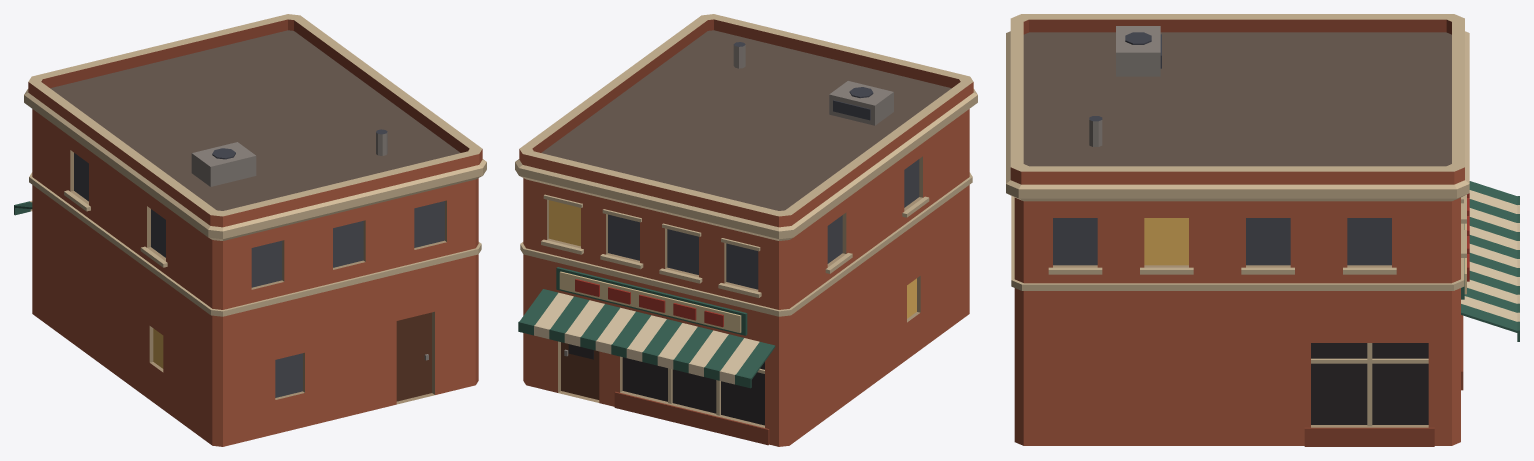
File: Bldg_Shop2.fbx
The picture shows the model from 3 angles, left to right: view 1: azimuth 30°, elevation 25°; view 2: azimuth 150°, elevation 25°; view 3: azimuth 270°, elevation 25°; orthographic projection. The views are drawn at different scales.
Visible parts, largest first — view 1: Bldg_Shop2; view 2: Bldg_Shop2; view 3: Bldg_Shop2.
Boxes of the visible parts, bbox=[...] form: Bldg_Shop2: bbox=[14, 14, 486, 446]; Bldg_Shop2: bbox=[515, 14, 977, 446]; Bldg_Shop2: bbox=[1006, 14, 1519, 446].
Bounding box in the file's own units: 1884 × 1570 × 2532.
Materials: 1 (1 with a texture image).
